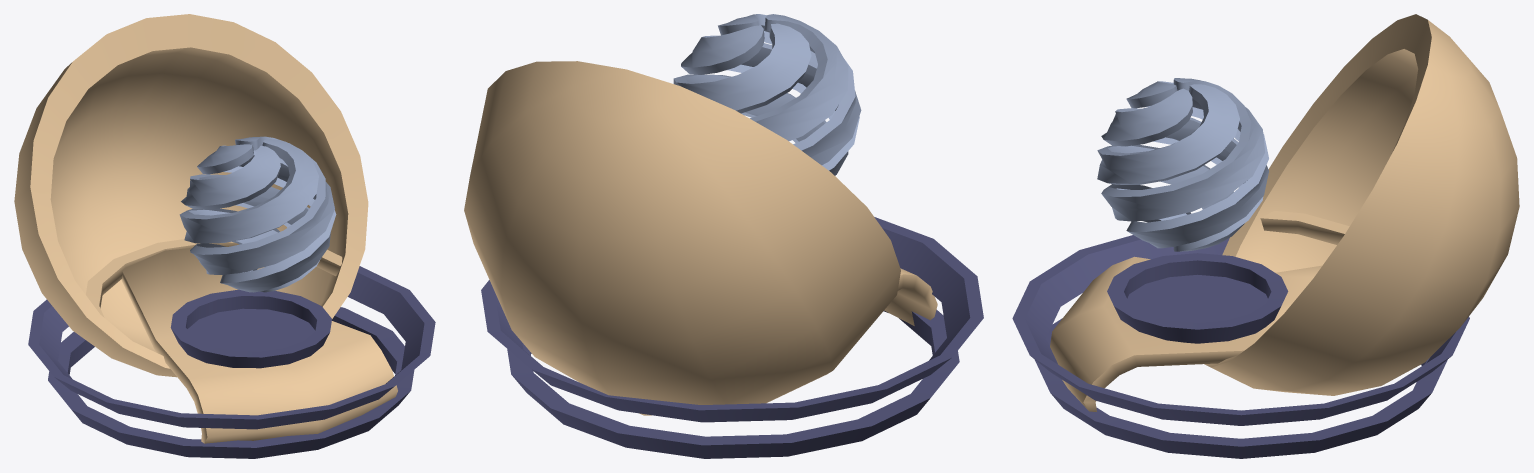
Rendered from Mesh_KineticSphere.fbx.
The picture shows the model from 3 angles, left to right: view 1: azimuth 30°, elevation 25°; view 2: azimuth 150°, elevation 25°; view 3: azimuth 270°, elevation 25°; orthographic projection. The views are drawn at different scales.
Visible parts, largest first — view 1: KineticPedestal, KineticSphere; view 2: KineticPedestal, KineticSphere; view 3: KineticPedestal, KineticSphere.
Part boxes in pixels (x1=…): KineticPedestal: x1=14, y1=14, x2=435, y2=458; KineticSphere: x1=179, y1=136, x2=336, y2=292; KineticPedestal: x1=464, y1=61, x2=983, y2=458; KineticSphere: x1=673, y1=14, x2=861, y2=175; KineticPedestal: x1=1012, y1=14, x2=1519, y2=458; KineticSphere: x1=1097, y1=78, x2=1268, y2=251.
Bounding box in the file's own units: 0.2727 × 0.224 × 0.3022.
